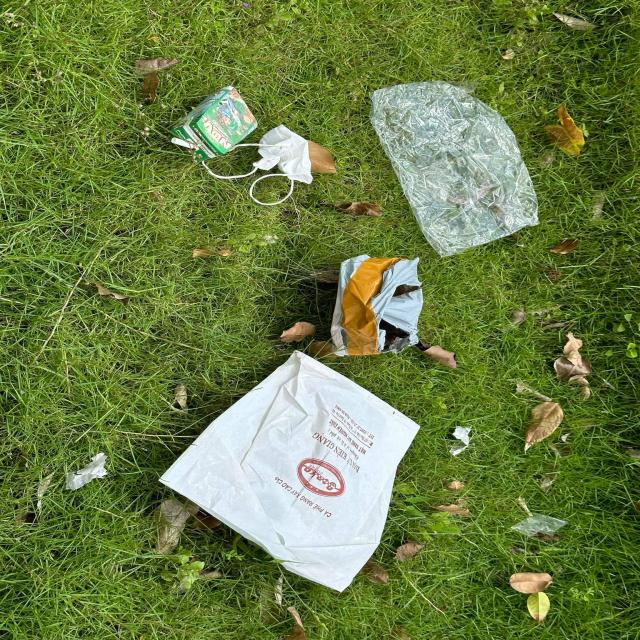bag: (160, 352, 422, 590), (371, 81, 538, 258)
mask: (202, 126, 313, 204)
milk box: (172, 84, 258, 161)
